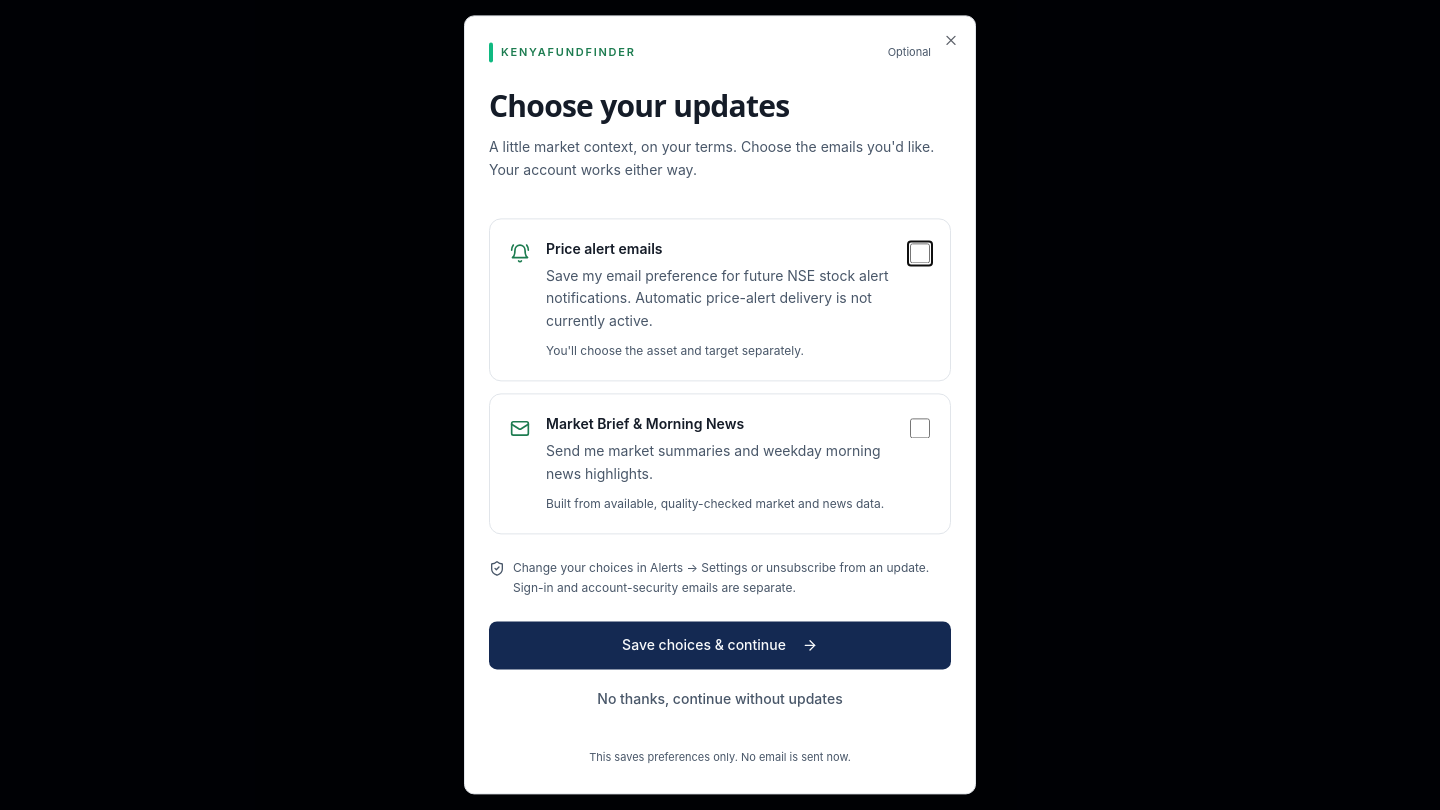
Test: Choose your updates › saves independently: price=false brief=true
The width and height of the screenshot is (1440, 810).
Click the checkbox labelled "Market Brief & Morning News" at (920, 429), box top-left (910, 419), bottom-right (930, 439)
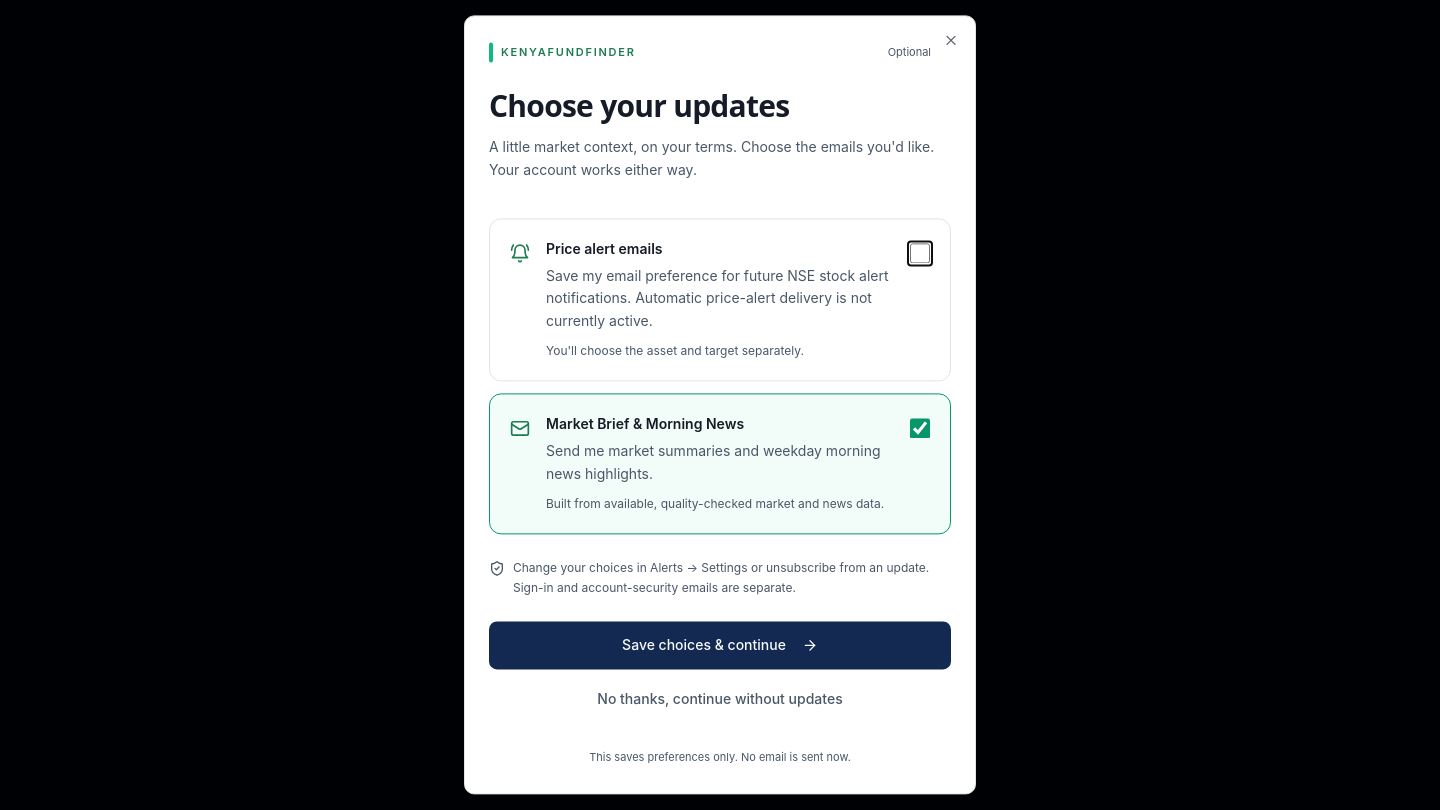
Click the button "Save choices & continue" at (720, 646), box top-left (489, 622), bottom-right (951, 670)
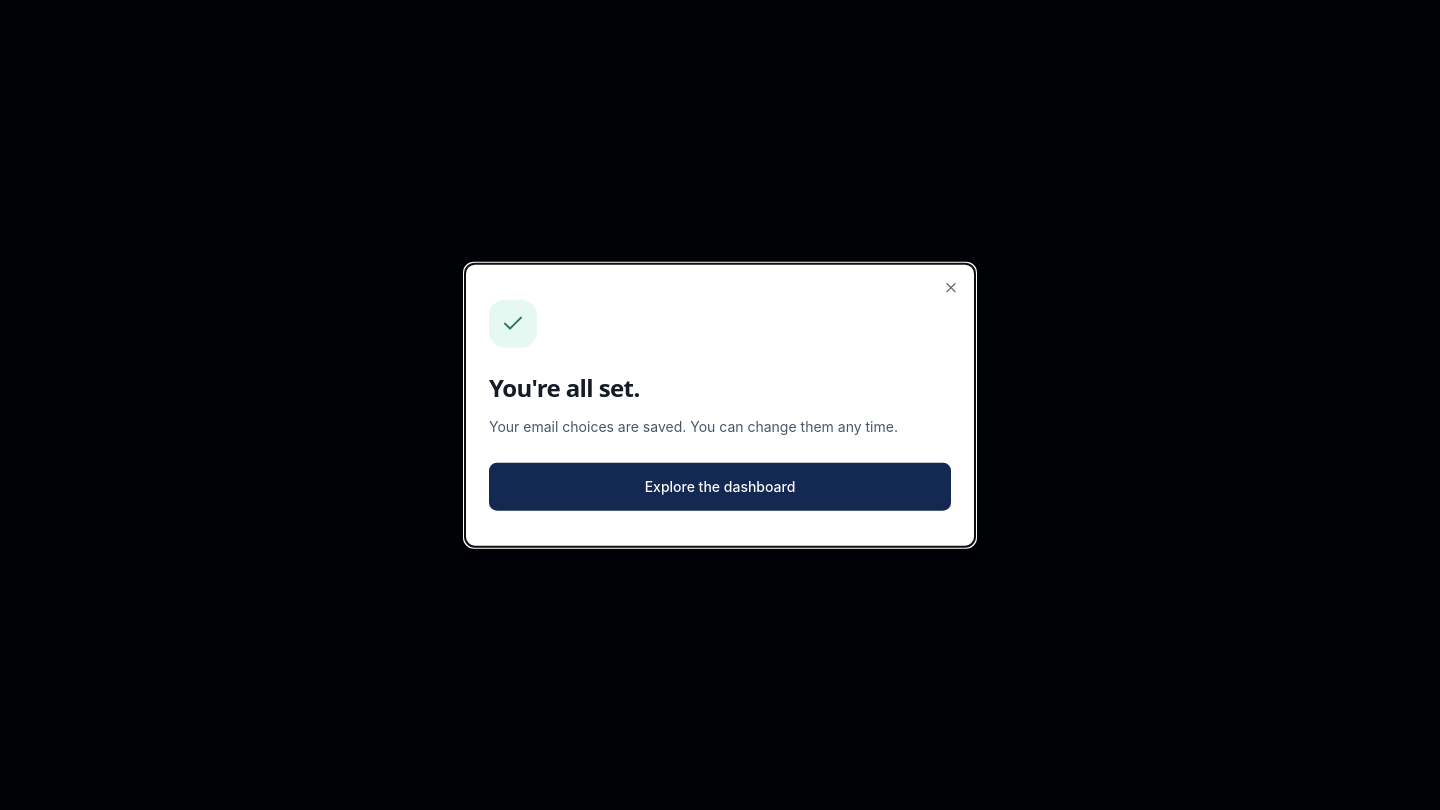
Expected: the heading "You're all set." is shown, top-left (489, 371), bottom-right (640, 404)
